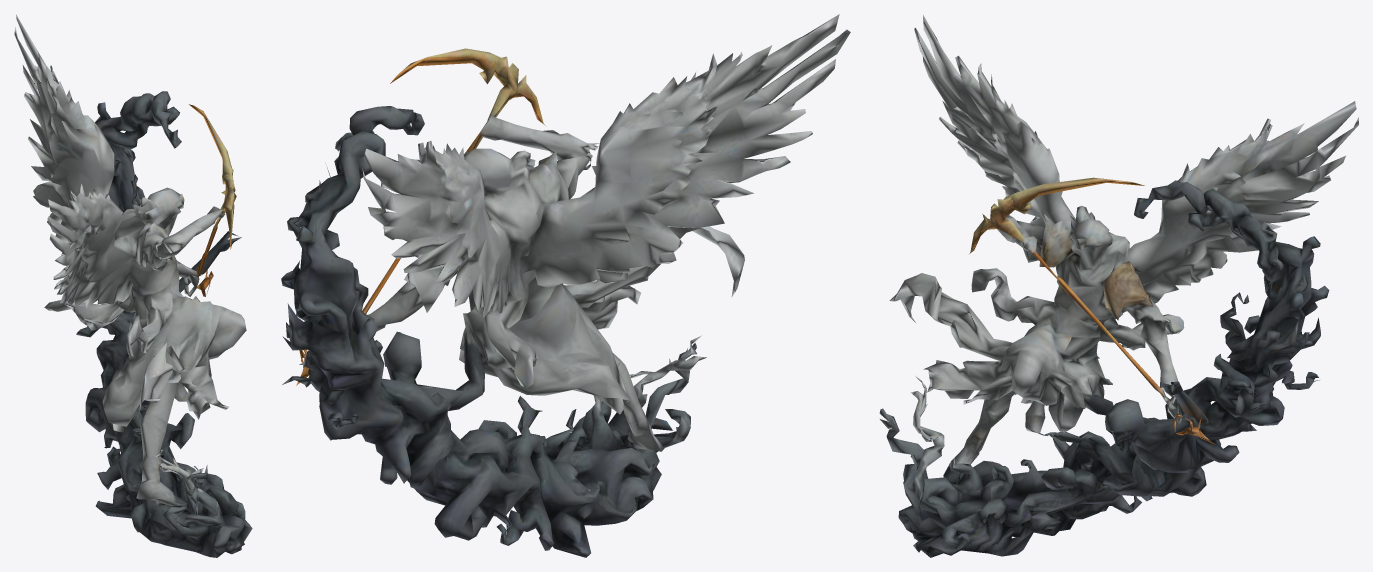
The model's file is tripo_fallen-and-ascension_embed280k.glb.
3 views of the same model, side by side, from view 1: azimuth 30°, elevation 25°; view 2: azimuth 150°, elevation 25°; view 3: azimuth 270°, elevation 25° (orthographic). The views are drawn at different scales.
Visible parts, largest first — view 1: tripo_node_0423bdb3-89de-40fd-a40f-a806c83bb030; view 2: tripo_node_0423bdb3-89de-40fd-a40f-a806c83bb030; view 3: tripo_node_0423bdb3-89de-40fd-a40f-a806c83bb030.
Part boxes in pixels (x1=…): tripo_node_0423bdb3-89de-40fd-a40f-a806c83bb030: x1=14, y1=14, x2=252, y2=557; tripo_node_0423bdb3-89de-40fd-a40f-a806c83bb030: x1=281, y1=14, x2=850, y2=557; tripo_node_0423bdb3-89de-40fd-a40f-a806c83bb030: x1=879, y1=15, x2=1358, y2=557.
Bounding box in the file's own units: 0.8095 × 0.9983 × 0.9869.
Materials: 1 (1 with a texture image).
